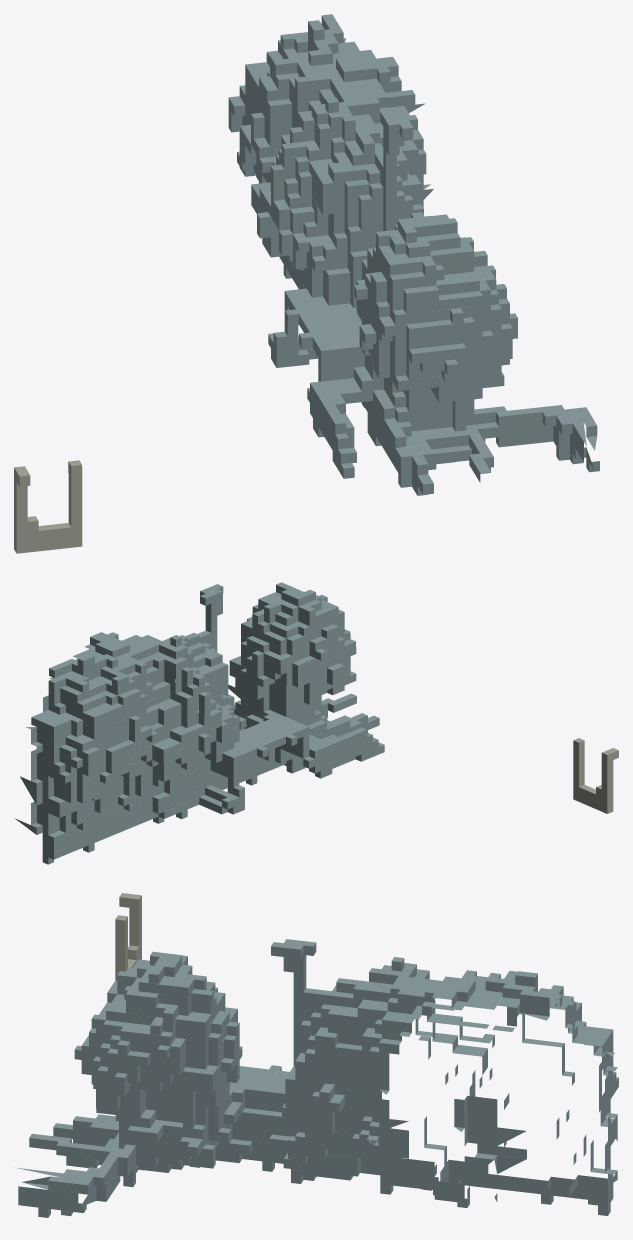
3 renders of one model, top to bottom at view 1: azimuth 30°, elevation 25°; view 2: azimuth 150°, elevation 25°; view 3: azimuth 270°, elevation 25°, orthographic. The views are drawn at different scales.
Visible parts, largest first — view 1: measured-industrial; view 2: measured-industrial; view 3: measured-industrial.
Boxes of the visible parts, bbox=[...] form: measured-industrial: bbox=[14, 14, 599, 553]; measured-industrial: bbox=[14, 582, 618, 864]; measured-industrial: bbox=[15, 893, 618, 1217].
Size of the model in its own units: 62.64 by 26.02 by 58.51.
